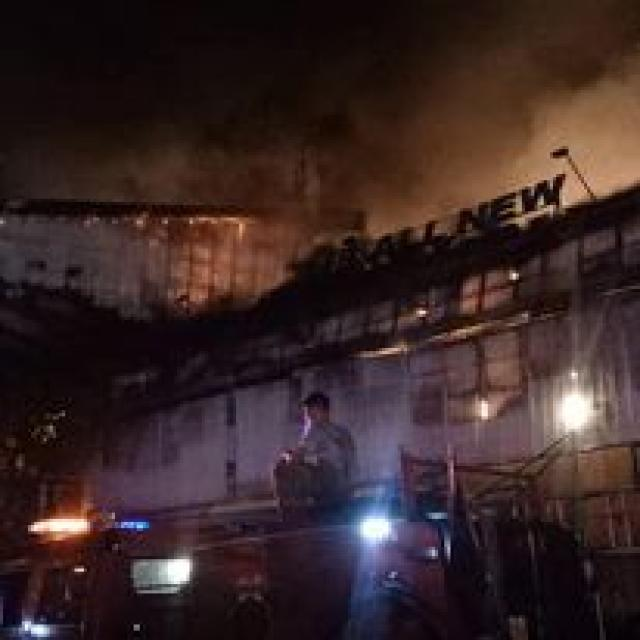Smoke: (341, 50, 640, 219)
